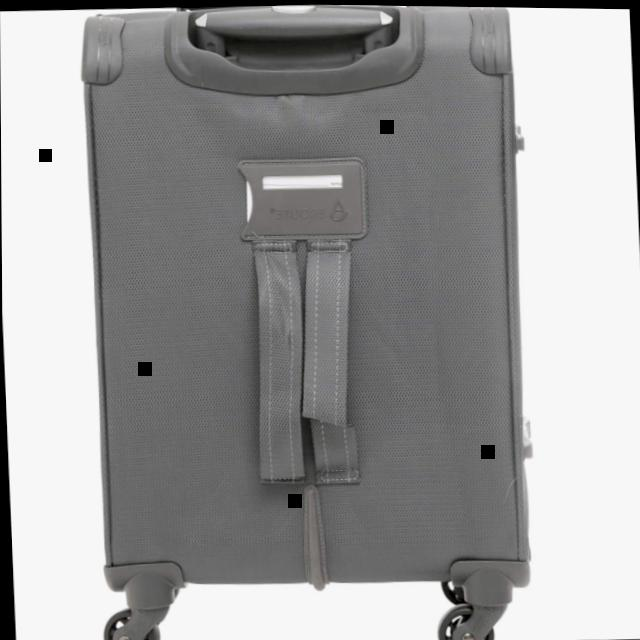luggage: (61, 1, 564, 634)
